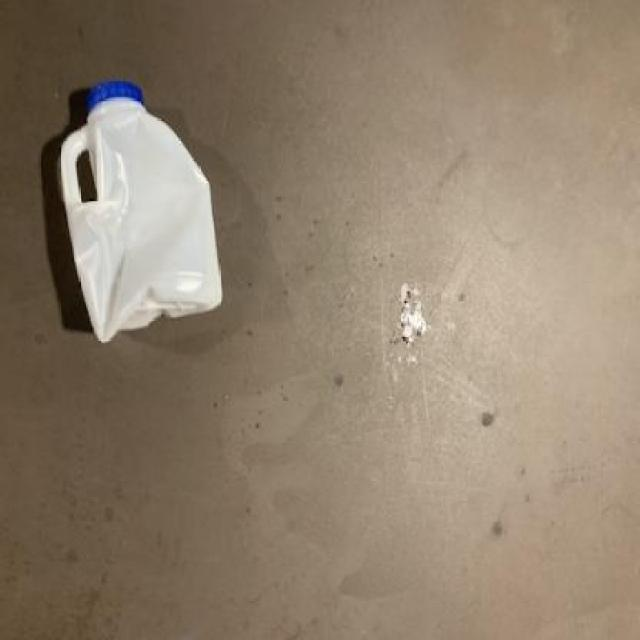trash: (59, 80, 224, 348)
